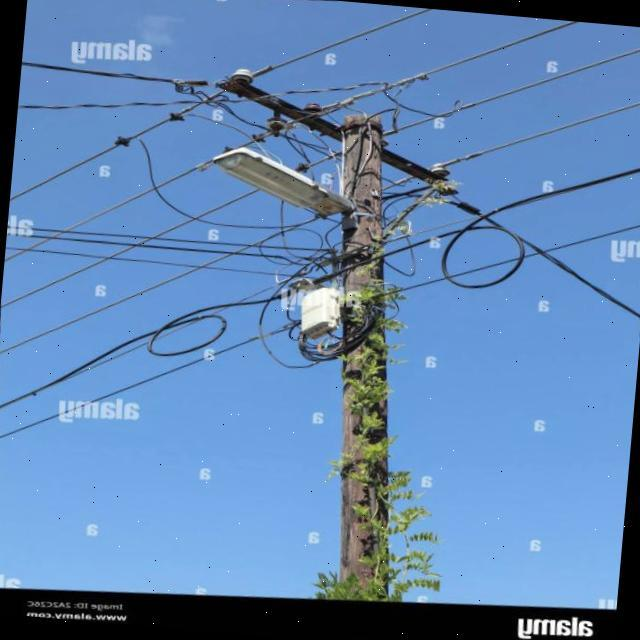critical vegetation: (209, 70, 486, 603)
